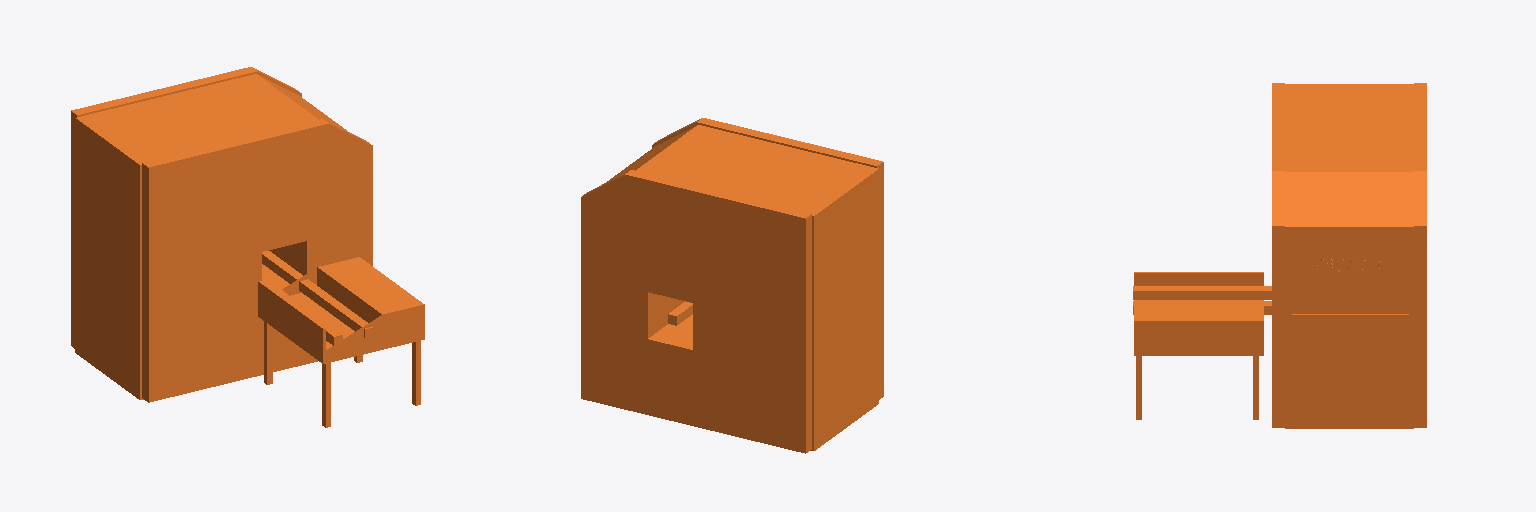
Rendered from 检测AOR（异常）.obj.
3 renders of one model, left to right at view 1: azimuth 30°, elevation 25°; view 2: azimuth 150°, elevation 25°; view 3: azimuth 270°, elevation 25°, orthographic.
Parts seen in each view (by area): view 1: ??_2, ??_1, ???_4_2, ??_2_2, ???_1, ???_3_2, ???_3_3, ???_2, ???_4, ???_3, ???_5; view 2: ??_2_2, ??_1, ??_2, ???_3_3, ???_1_2; view 3: ??_1, ???_4_2, ??_2, ??_2_2, ???, ???_2, ???_3_2.
Boxes of the visible parts, x1,y1,x2,y2 form: ??_2: [142, 119, 372, 402]; ??_1: [75, 74, 346, 399]; ???_4_2: [258, 257, 424, 363]; ??_2_2: [71, 67, 301, 348]; ???_1: [262, 251, 373, 338]; ???_3_2: [291, 267, 381, 349]; ???_3_3: [262, 243, 299, 287]; ???_2: [262, 276, 342, 345]; ???_4: [322, 363, 330, 427]; ???_3: [412, 341, 420, 405]; ???_5: [264, 321, 272, 384]; ??_2_2: [581, 170, 811, 453]; ??_1: [607, 125, 878, 450]; ??_2: [652, 118, 883, 399]; ???_3_3: [654, 294, 692, 343]; ???_1_2: [648, 292, 692, 349]; ??_1: [1285, 84, 1413, 428]; ???_4_2: [1134, 272, 1263, 355]; ??_2: [1272, 83, 1284, 427]; ??_2_2: [1414, 83, 1426, 427]; ???: [1292, 314, 1408, 349]; ???_2: [1133, 286, 1271, 299]; ???_3_2: [1134, 273, 1263, 285].
Bounding box in the file's own units: 202 × 202 × 227.